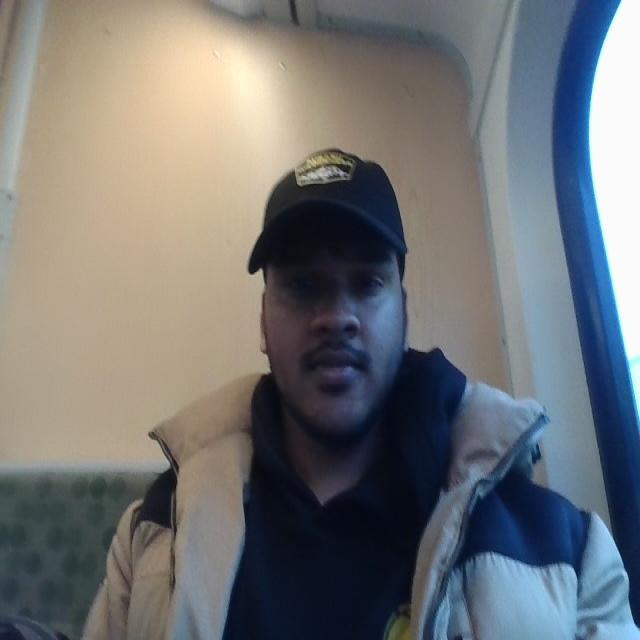hat: (242, 145, 413, 280)
